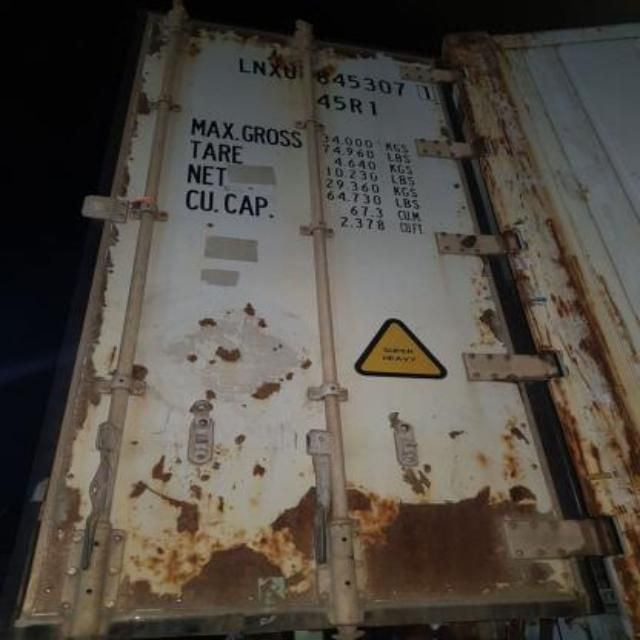0: (378, 77, 392, 97)
1: (418, 83, 436, 101)
3: (362, 68, 376, 94)
4: (332, 66, 346, 90)
5: (346, 68, 362, 90)
7: (392, 76, 404, 100)
8: (316, 68, 328, 88)
L: (236, 53, 252, 77)
N: (252, 58, 266, 78)
U: (284, 59, 300, 82)
X: (266, 56, 282, 80)
